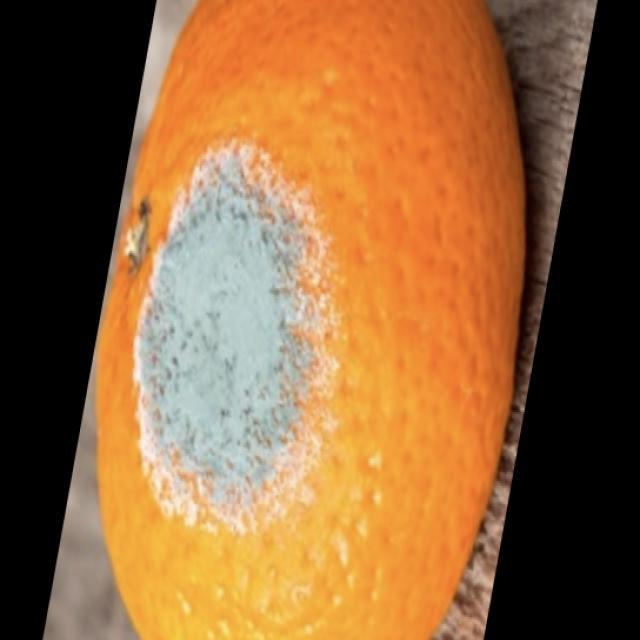sedikit-busuk: (98, 0, 522, 639)
